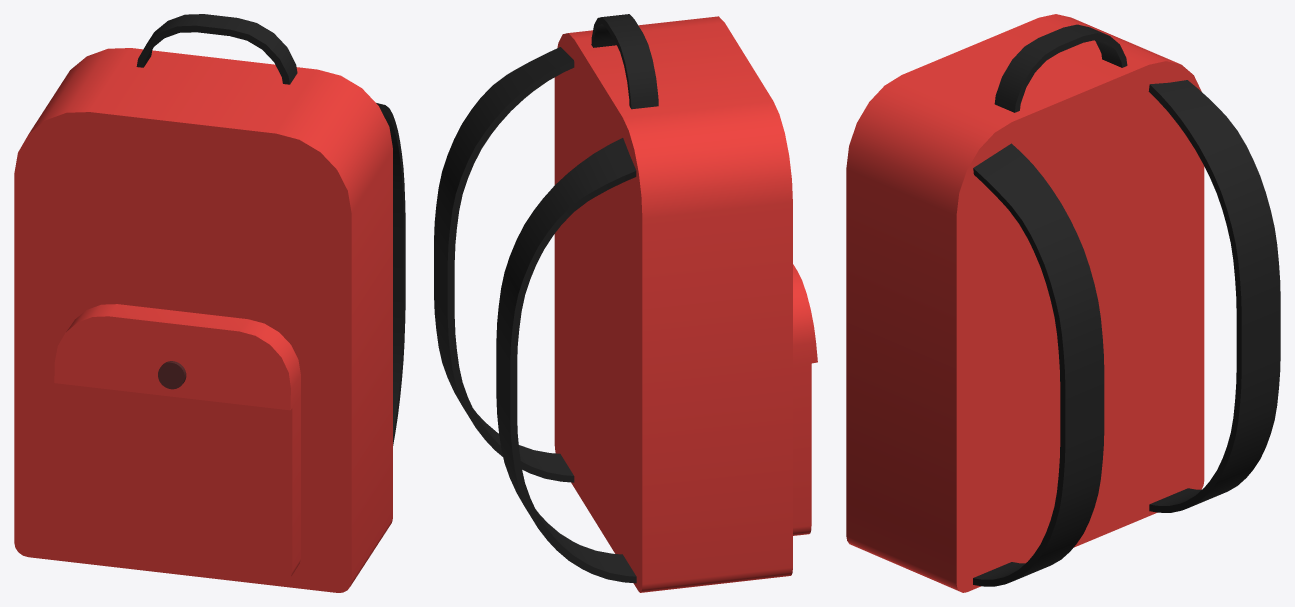
The model's file is backpack.glb.
3 renders of one model, left to right at view 1: azimuth 30°, elevation 25°; view 2: azimuth 150°, elevation 25°; view 3: azimuth 270°, elevation 25°, orthographic.
Visible parts, largest first — view 1: Cube.6113; view 2: Cube.6113; view 3: Cube.6113.
Part boxes in pixels (<box>): Cube.6113: <box>14,14,405,592</box>; Cube.6113: <box>434,14,817,592</box>; Cube.6113: <box>846,14,1280,592</box>.
Bounding box in the file's own units: 1.61 × 2.05 × 1.62.
1 material, 1 textured.
